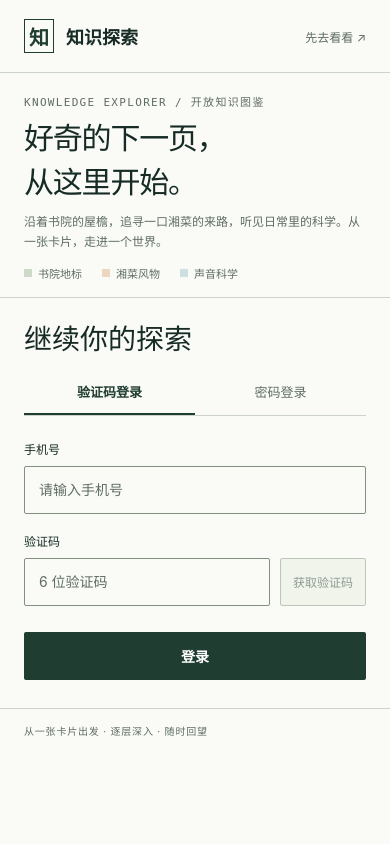
Test: LoginView › 登录失败展示后端错误文案
Step 1. Type "13900000001" into the field named "phone" → (195,490), box [24,466,366,514]
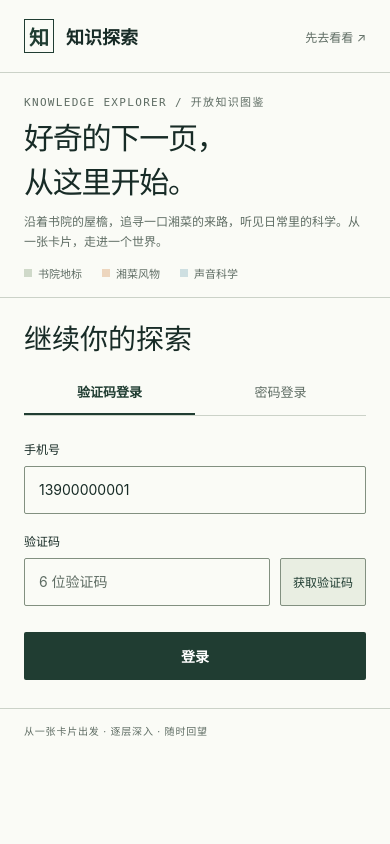
Step 2. Type "000000" into the field named "code" → (147,582), box [24,558,270,606]
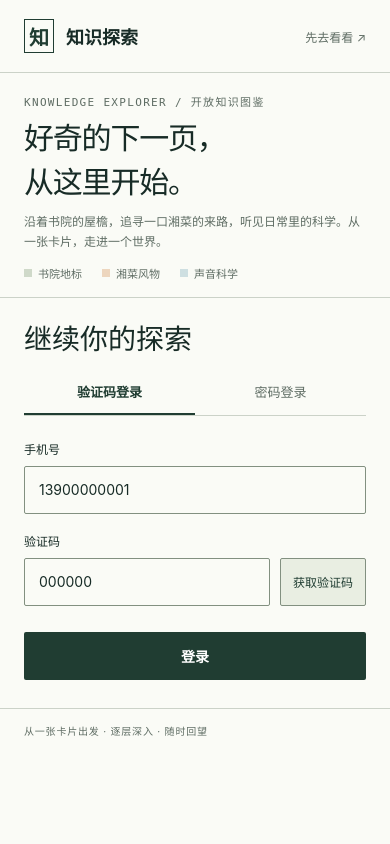
Step 3. Submit the form, box [24,320,366,680]
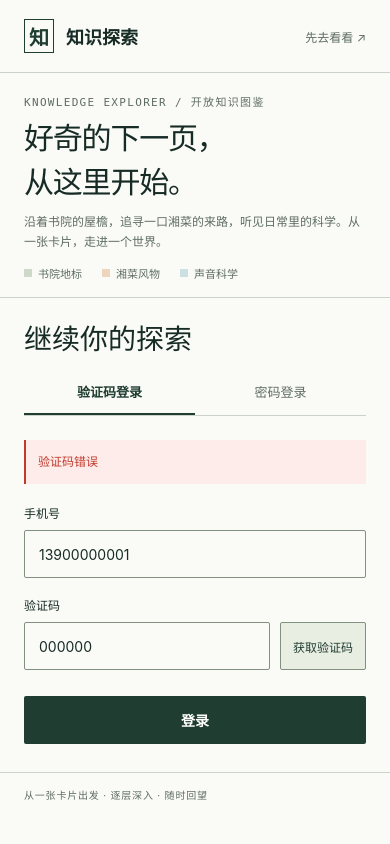
Expected: the message "验证码错误" is shown, [24,440,366,484]
